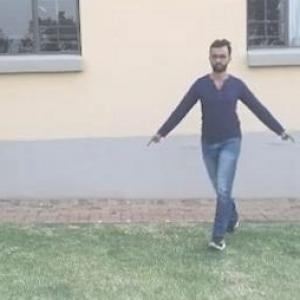land: (167, 48, 278, 220)
